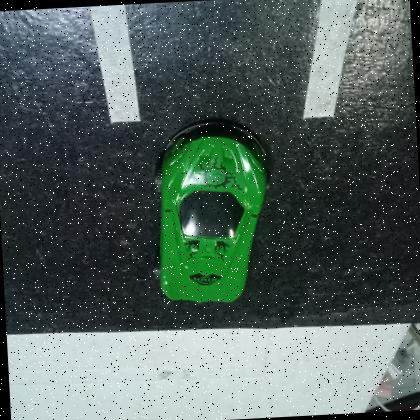Car: (156, 118, 269, 301)
